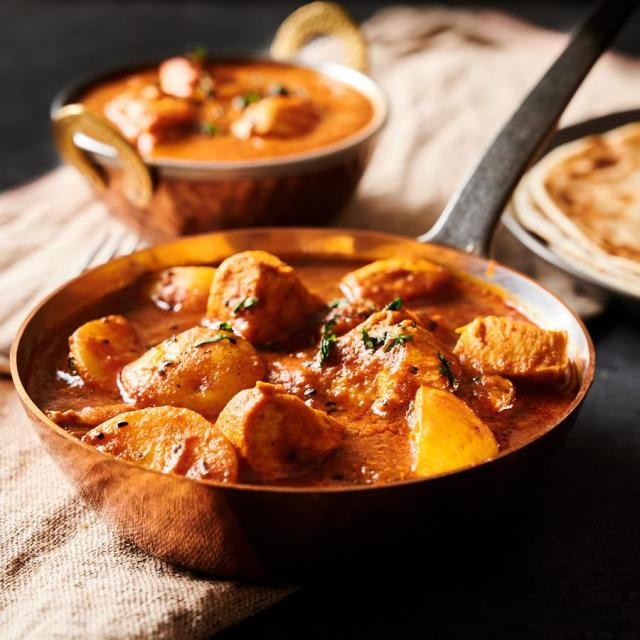chicken: (43, 256, 565, 484)
